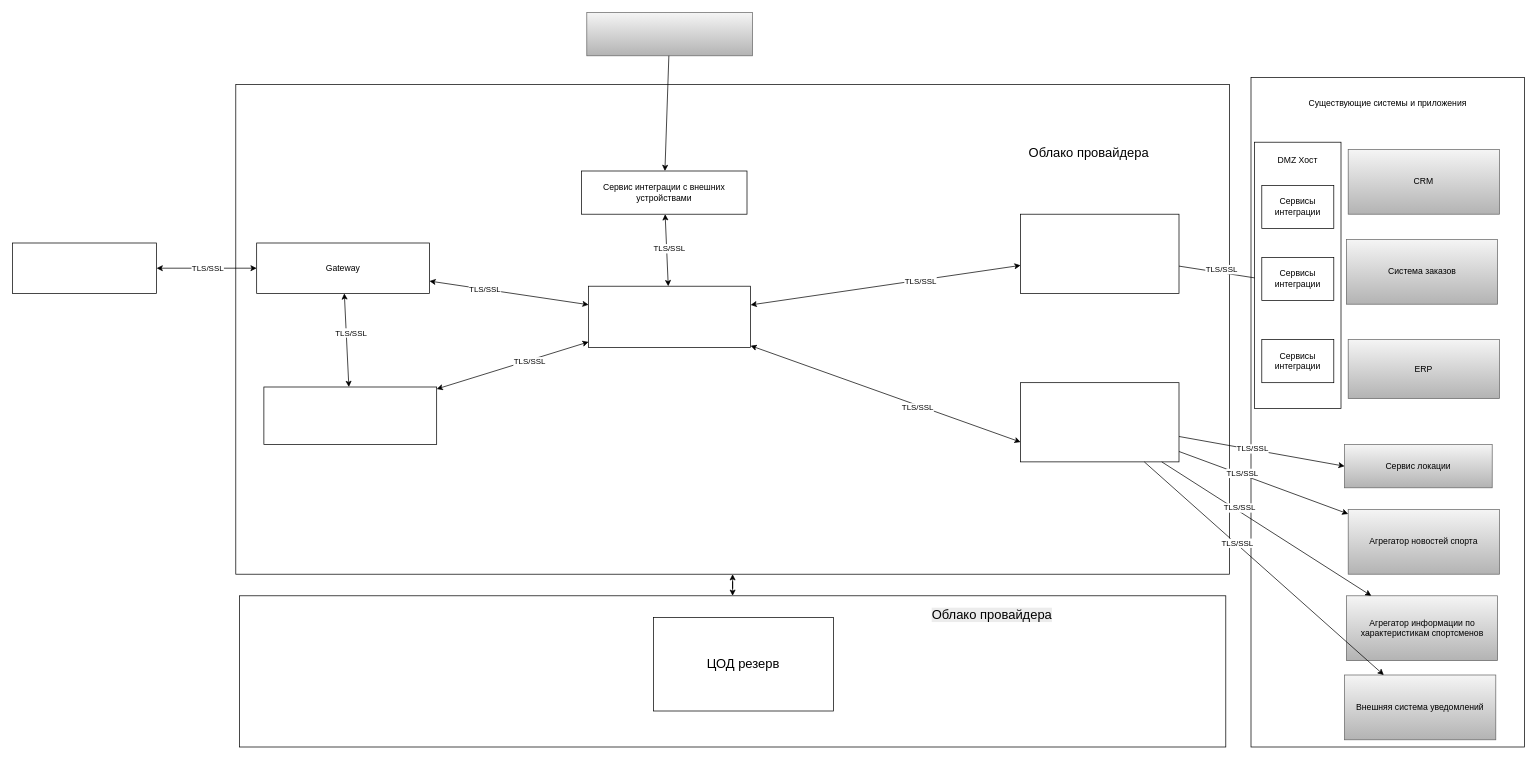
Some shapes in this 1537 by 760 pixel diagram are drawn without their labels. Each missing label, with the centre of its shape:
"Интеграционные сервисы с внешними службами" belongs at (1099,422).
"Интеграционные сервисы со службами компании" belongs at (1099,253).
"Мобильное приложение" belongs at (84,267).
"Сервис аутентификации/авторизации" belongs at (350,415).
"Сторонние устройства" belongs at (669,34).
"Функциональные сервисы" belongs at (669,316).
